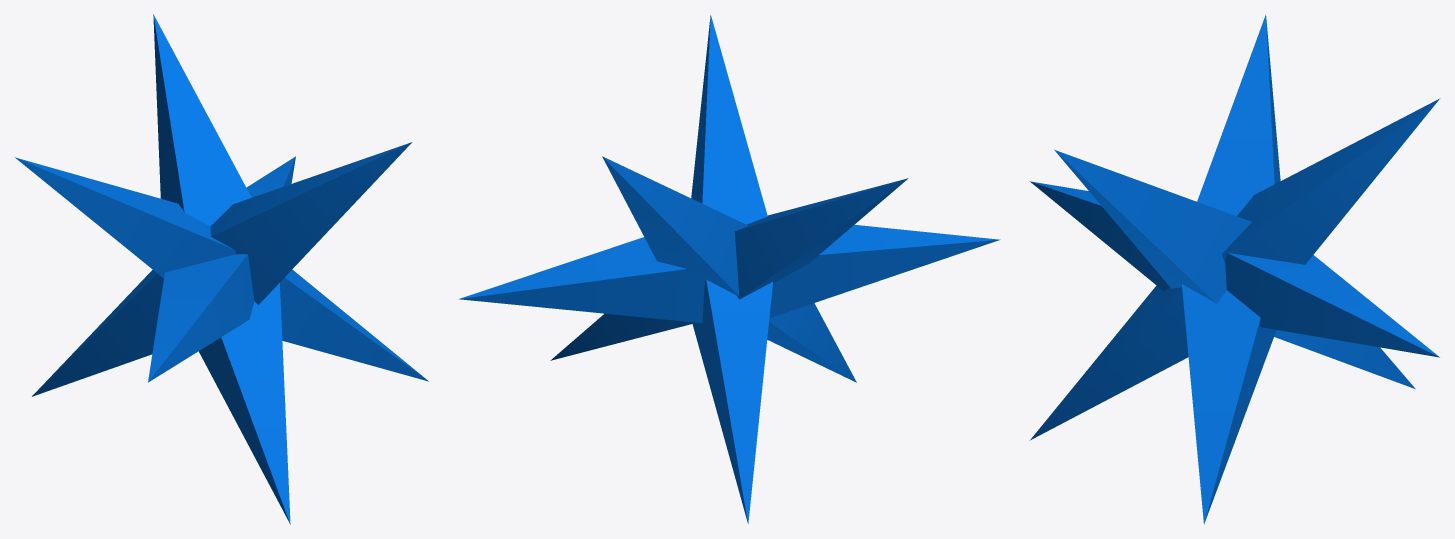
The model's file is Star.fbx.
The picture shows the model from 3 angles, left to right: view 1: azimuth 30°, elevation 25°; view 2: azimuth 150°, elevation 25°; view 3: azimuth 270°, elevation 25°; orthographic projection. The views are drawn at different scales.
Visible parts, largest first — view 1: polySurface63; view 2: polySurface63; view 3: polySurface63.
Part boxes in pixels (left/top/right/bottom): polySurface63: left=15, top=14, right=428, bottom=524; polySurface63: left=458, top=15, right=1000, bottom=523; polySurface63: left=1029, top=14, right=1440, bottom=524.
Bounding box in the file's own units: 40.27 × 35.3 × 35.3.
